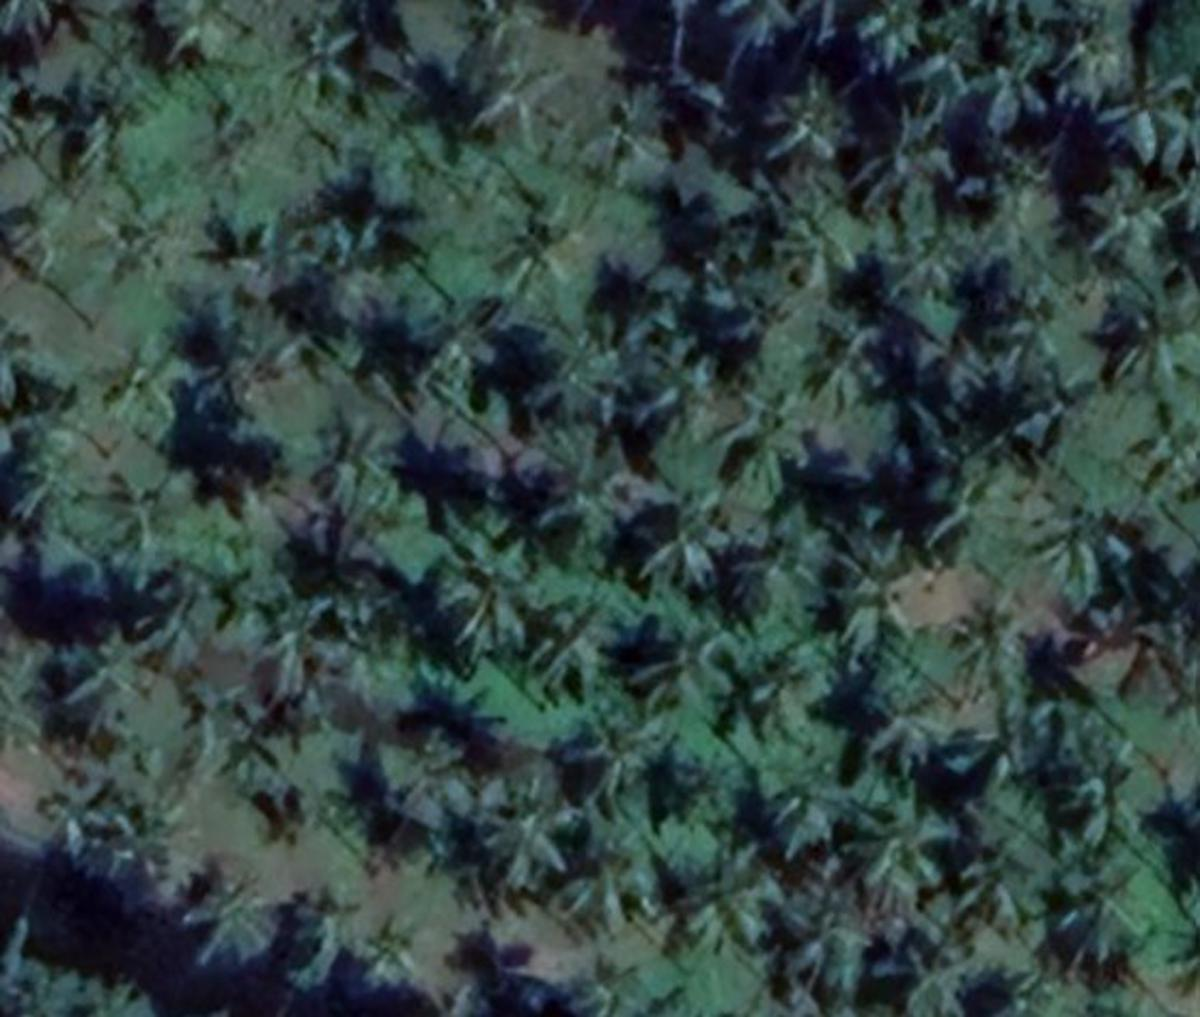coconut: (456, 784, 575, 887), (827, 547, 937, 657), (846, 792, 956, 902), (1034, 504, 1137, 618), (713, 394, 825, 497), (56, 616, 163, 721), (1100, 265, 1200, 374), (437, 553, 536, 663), (249, 594, 340, 711), (1096, 60, 1191, 172), (947, 32, 1047, 135), (478, 64, 581, 161), (859, 693, 954, 792), (523, 590, 620, 685), (6, 185, 99, 284), (103, 342, 204, 433), (685, 857, 773, 960), (178, 870, 280, 958), (777, 204, 868, 303), (1055, 861, 1148, 956), (642, 631, 732, 728), (954, 840, 1038, 945), (568, 717, 670, 801), (1062, 741, 1141, 847), (1068, 168, 1169, 252), (622, 489, 704, 590), (411, 338, 508, 424), (564, 842, 663, 926), (805, 318, 889, 415), (581, 94, 665, 191), (769, 88, 868, 169), (357, 915, 439, 1004), (504, 206, 585, 288), (756, 771, 840, 851), (284, 21, 366, 99), (327, 420, 400, 502)
